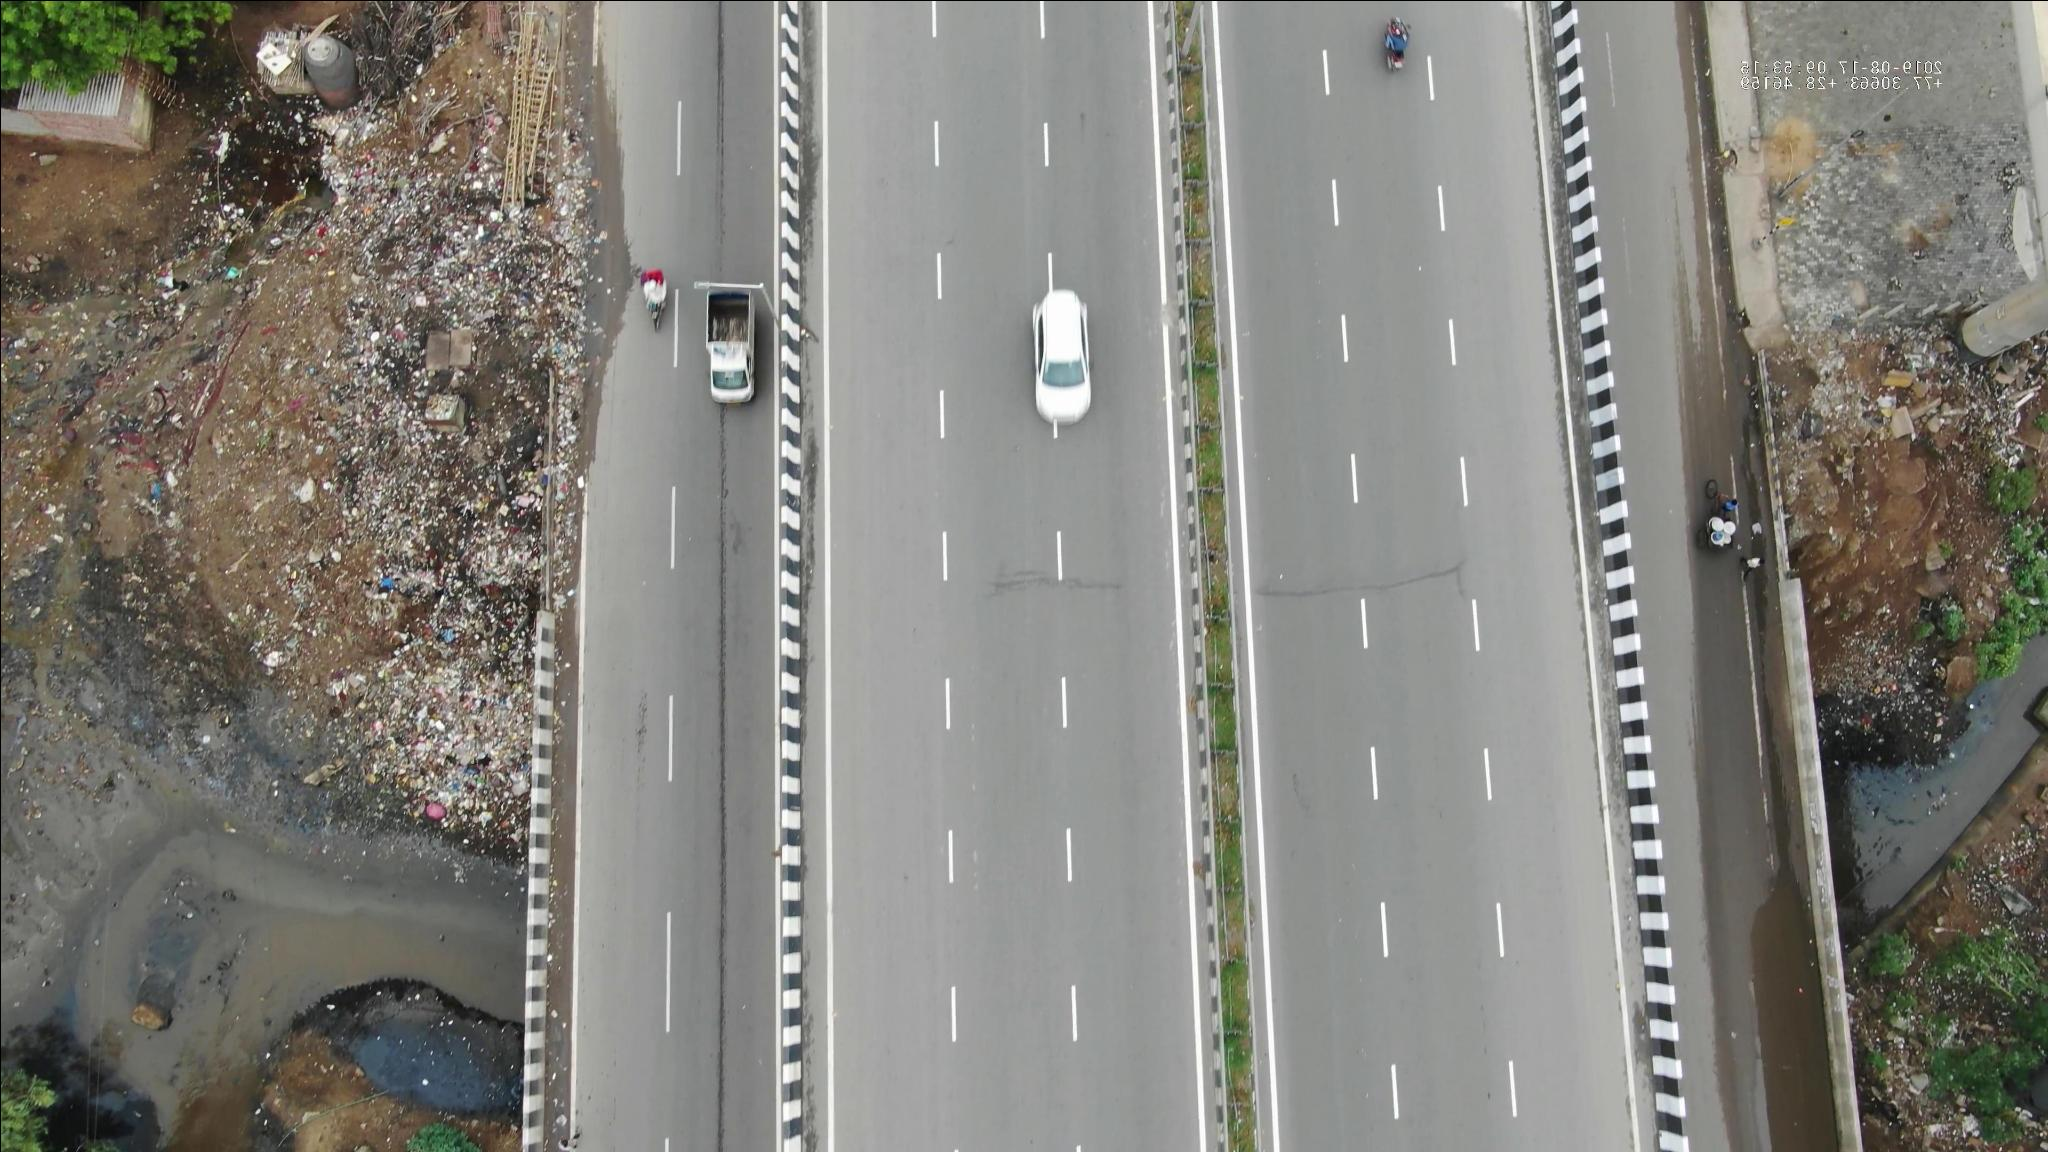Road_side_garbage: (286, 80, 595, 830)
